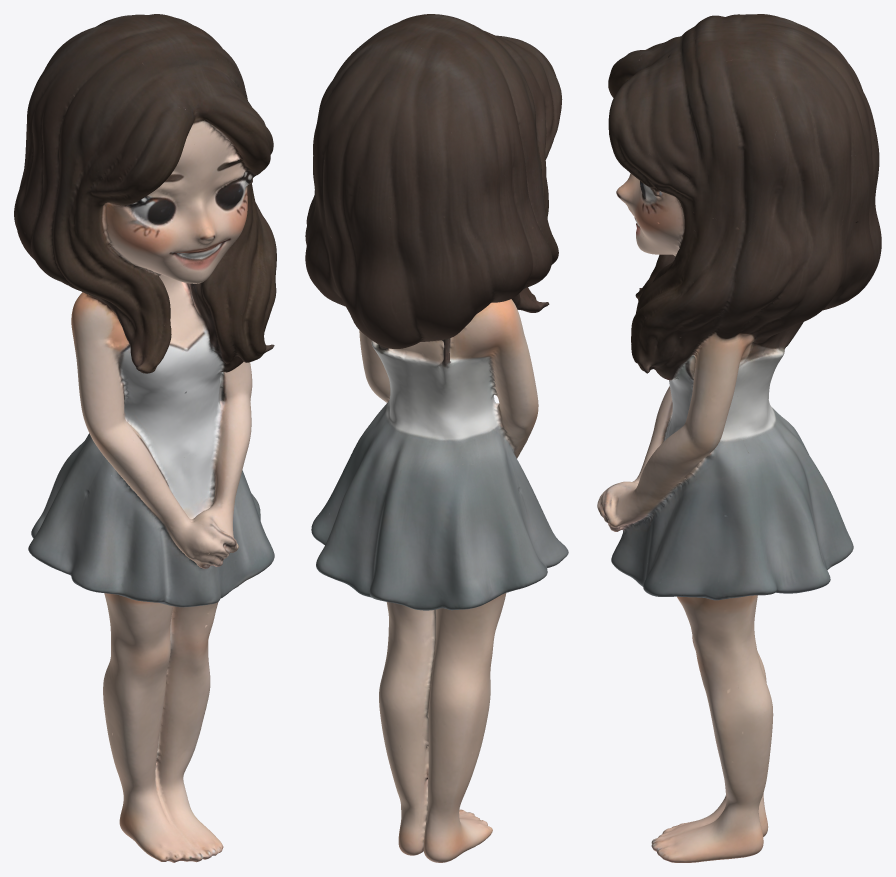
The model's file is Avatar.glb.
The picture shows the model from 3 angles, left to right: view 1: azimuth 30°, elevation 25°; view 2: azimuth 150°, elevation 25°; view 3: azimuth 270°, elevation 25°; orthographic projection. The views are drawn at different scales.
Bounding box in the file's own units: 0.5834 × 2 × 0.6297.
1 material, 1 textured.
